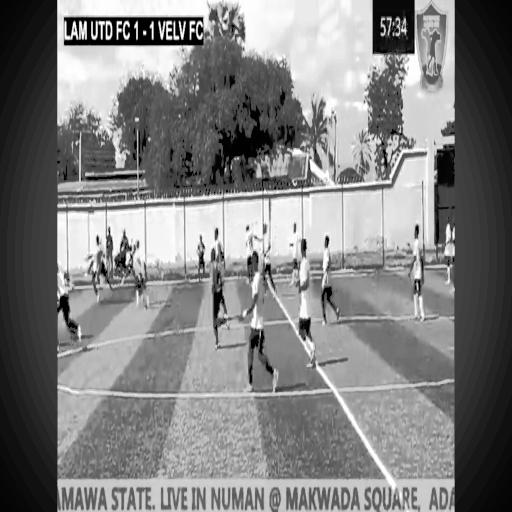referee: (206, 244, 226, 358), (194, 228, 206, 282)
team1: (244, 247, 280, 404), (57, 252, 84, 352), (319, 225, 341, 330), (258, 215, 278, 293), (89, 229, 104, 303), (244, 215, 258, 279)
team2: (293, 236, 320, 366), (128, 239, 153, 313), (413, 218, 426, 328), (442, 196, 454, 286), (289, 203, 302, 286)
